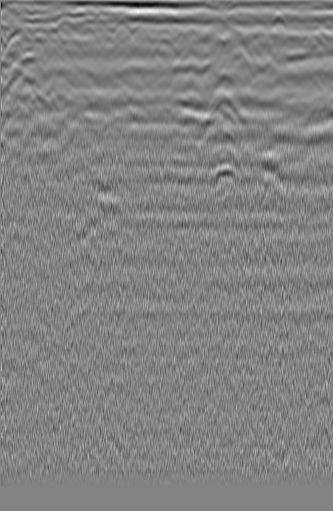가스: (204, 158, 242, 186)
상수: (25, 23, 55, 49)
오수: (278, 33, 312, 58)
우수: (143, 34, 182, 67)
